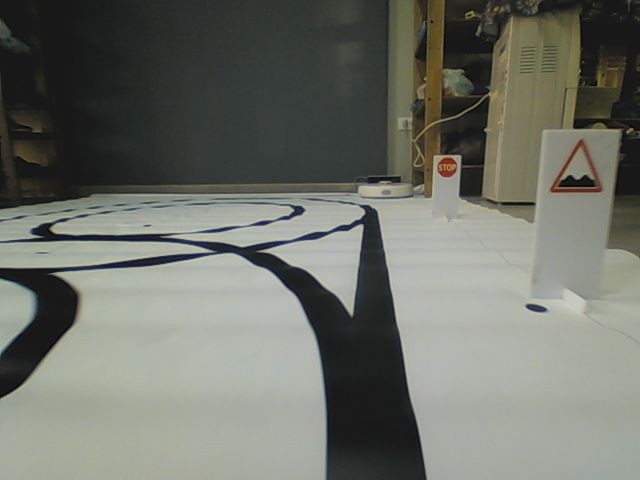Stop: (433, 156, 460, 176)
